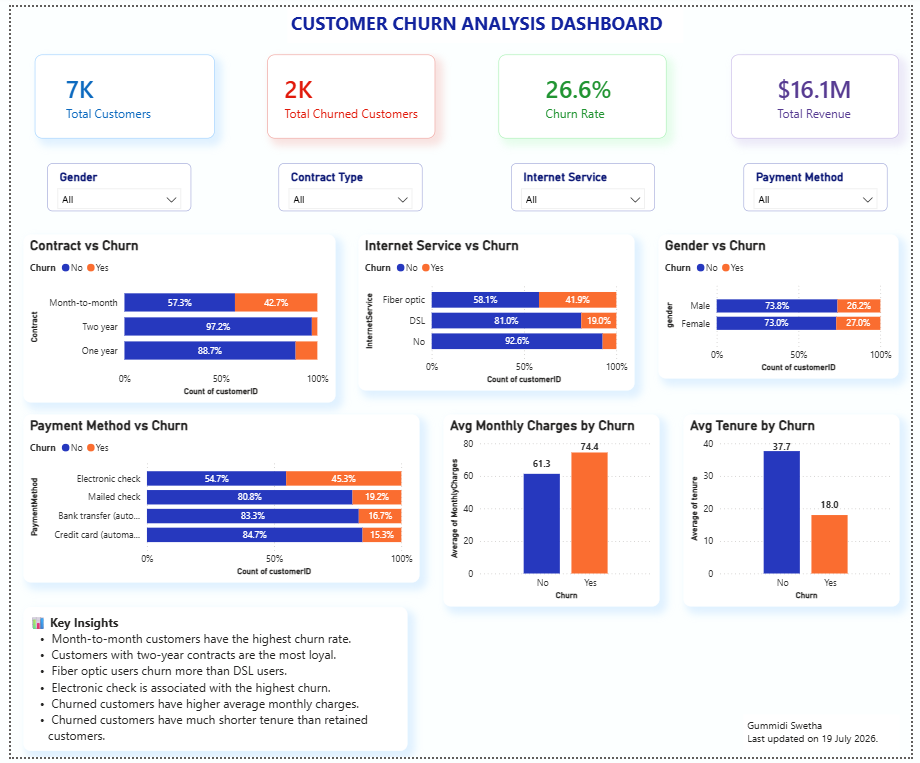

The dashboard page shown, as its layout file describes it:
{"tool":"powerbi","page":{"name":"Page 1","canvas":[1200,1000],"ordinal":0},"visuals":[{"type":"textbox","box":[368,0,528,48],"z":0},{"type":"hundredPercentStackedBarChart","title":"Contract vs Churn","fields":{"Category":["churn.Contract"],"Y":["Count(churn.customerID)"],"Series":["churn.Churn"]},"box":[16,304,416,224],"z":1000},{"type":"hundredPercentStackedBarChart","title":"Gender vs Churn","fields":{"Category":["churn.gender"],"Series":["churn.Churn"],"Y":["CountNonNull(churn.customerID)"]},"box":[864,304,320,192],"z":2000},{"type":"clusteredColumnChart","title":"Avg Tenure by Churn","fields":{"Category":["churn.Churn"],"Y":["Avg(churn.tenure)"]},"box":[896,544,288,256],"z":3000},{"type":"clusteredColumnChart","title":"Avg Monthly Charges by Churn","fields":{"Category":["churn.Churn"],"Y":["Avg(churn.MonthlyCharges)"]},"box":[576,544,288,256],"z":4000},{"type":"slicer","fields":{"Values":["churn.gender"]},"box":[48,208,192,64],"z":5000},{"type":"hundredPercentStackedBarChart","title":"Internet Service vs Churn","fields":{"Category":["churn.InternetService"],"Series":["churn.Churn"],"Y":["CountNonNull(churn.customerID)"]},"box":[464,304,368,208],"z":6000},{"type":"hundredPercentStackedBarChart","title":"Payment Method vs Churn","fields":{"Category":["churn.PaymentMethod"],"Series":["churn.Churn"],"Y":["CountNonNull(churn.customerID)"]},"box":[16,544,528,224],"z":7000},{"type":"slicer","fields":{"Values":["churn.Contract"]},"box":[357.3,208,192,64],"z":8000},{"type":"slicer","fields":{"Values":["churn.InternetService"]},"box":[666.7,208,192,64],"z":9000},{"type":"slicer","fields":{"Values":["churn.PaymentMethod"]},"box":[976,208,192,64],"z":10000},{"type":"cardVisual","fields":{"Data":["churn.Total Customers"]},"box":[32,64,240,112],"z":11000},{"type":"cardVisual","fields":{"Data":["churn.Churn Rate"]},"box":[650.7,64,224,112],"z":12000},{"type":"cardVisual","fields":{"Data":["churn.Total Revenue"]},"box":[960,64,224,112],"z":13000},{"type":"cardVisual","fields":{"Data":["churn.Churned Customers"]},"box":[341.3,64,224,112],"z":14000},{"type":"textbox","box":[16,800,512,192],"z":15000},{"type":"textbox","box":[976,944,208,48],"z":16000}]}

Visuals, with their boxes in screenshot pixels (x1, y1, x2, y2), scaled from the page's 1200x1000 canvas onto the 920x763 screenshot:
textbox: (282,0,687,37)
"Contract vs Churn" hundredPercentStackedBarChart: (12,232,331,403)
"Gender vs Churn" hundredPercentStackedBarChart: (662,232,908,378)
"Avg Tenure by Churn" clusteredColumnChart: (687,415,908,610)
"Avg Monthly Charges by Churn" clusteredColumnChart: (442,415,662,610)
slicer - churn.gender: (37,159,184,208)
"Internet Service vs Churn" hundredPercentStackedBarChart: (356,232,638,391)
"Payment Method vs Churn" hundredPercentStackedBarChart: (12,415,417,586)
slicer - churn.Contract: (274,159,421,208)
slicer - churn.InternetService: (511,159,658,208)
slicer - churn.PaymentMethod: (748,159,895,208)
cardVisual - churn.Total Customers: (25,49,209,134)
cardVisual - churn.Churn Rate: (499,49,671,134)
cardVisual - churn.Total Revenue: (736,49,908,134)
cardVisual - churn.Churned Customers: (262,49,433,134)
textbox: (12,610,405,757)
textbox: (748,720,908,757)
